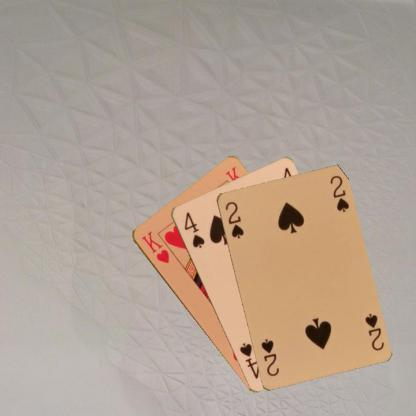2s: (362, 310, 385, 352), (222, 199, 245, 240)
4s: (181, 209, 206, 250)
Kh: (138, 228, 171, 265)
